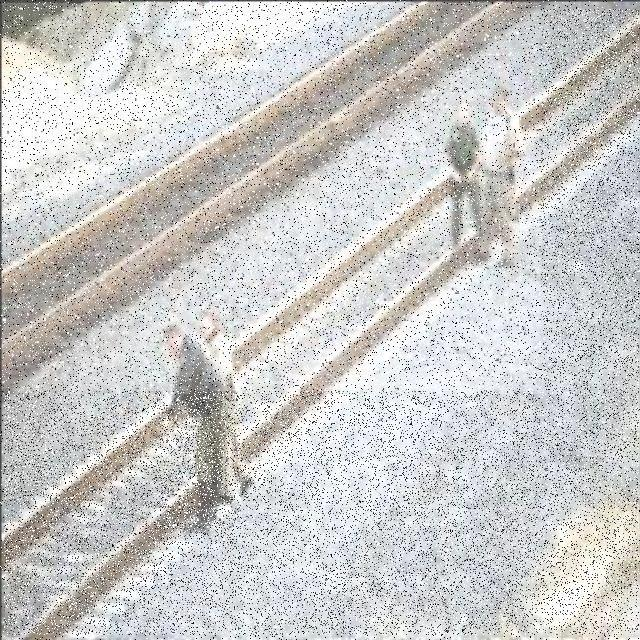rail: (5, 10, 640, 636), (4, 5, 541, 392)
